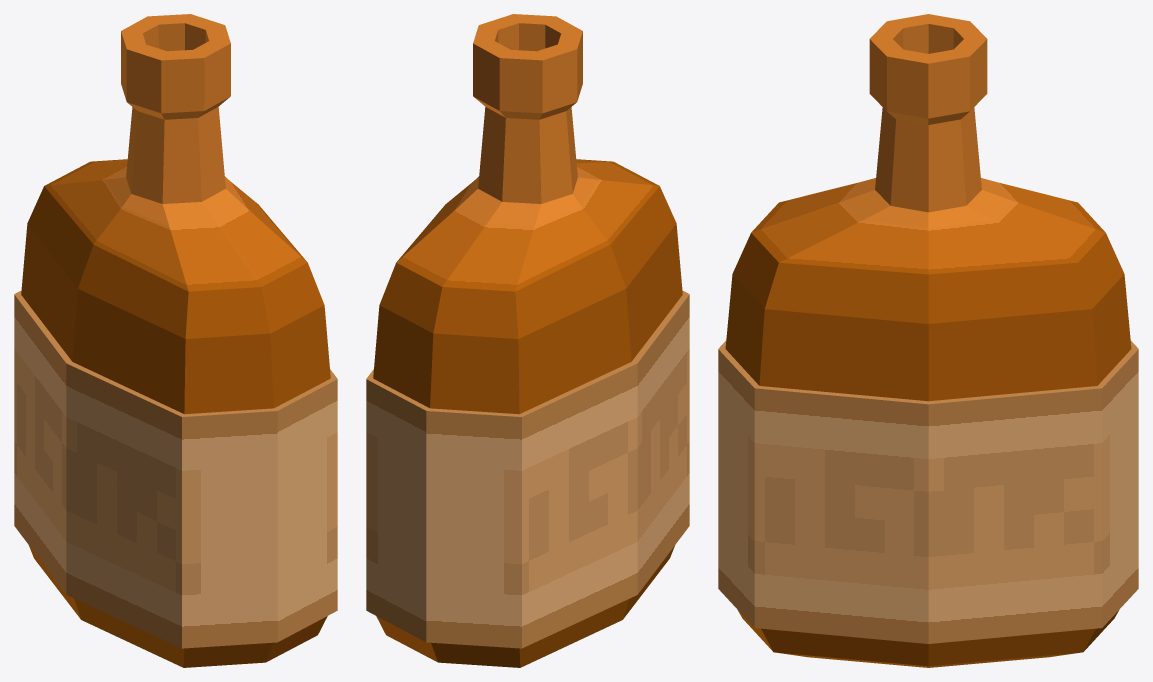
File: bottle_616x09.obj
3 renders of one model, left to right at view 1: azimuth 30°, elevation 25°; view 2: azimuth 150°, elevation 25°; view 3: azimuth 270°, elevation 25°, orthographic. The views are drawn at different scales.
Visible parts, largest first — view 1: Whiskey_Bottle; view 2: Whiskey_Bottle; view 3: Whiskey_Bottle.
Part boxes in pixels (x1,y1,x2,y2): Whiskey_Bottle: [14, 14, 337, 667]; Whiskey_Bottle: [366, 14, 689, 667]; Whiskey_Bottle: [718, 14, 1138, 667].
Bounding box in the file's own units: 0.2827 × 0.704 × 0.4534.
